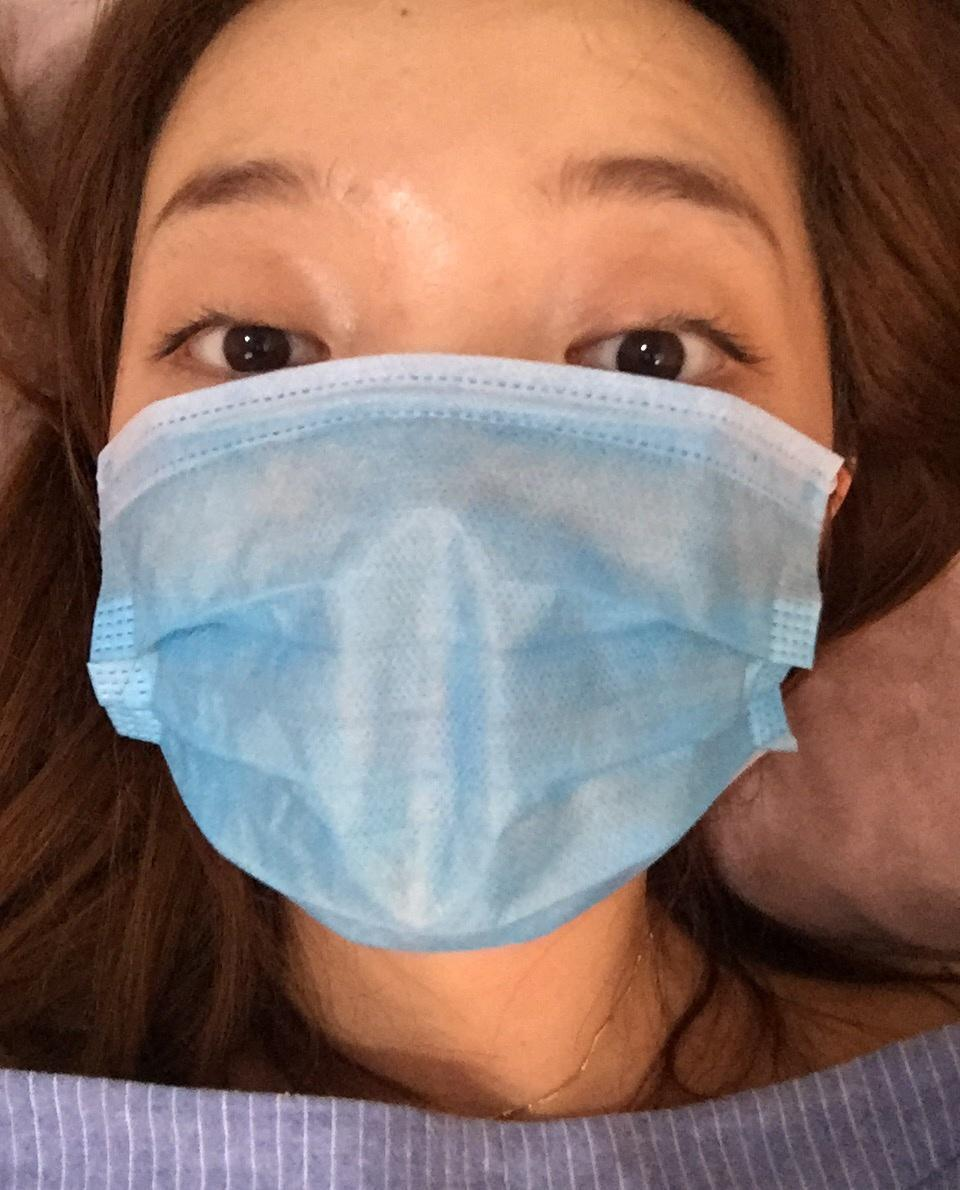OK: (86, 140, 905, 959)
